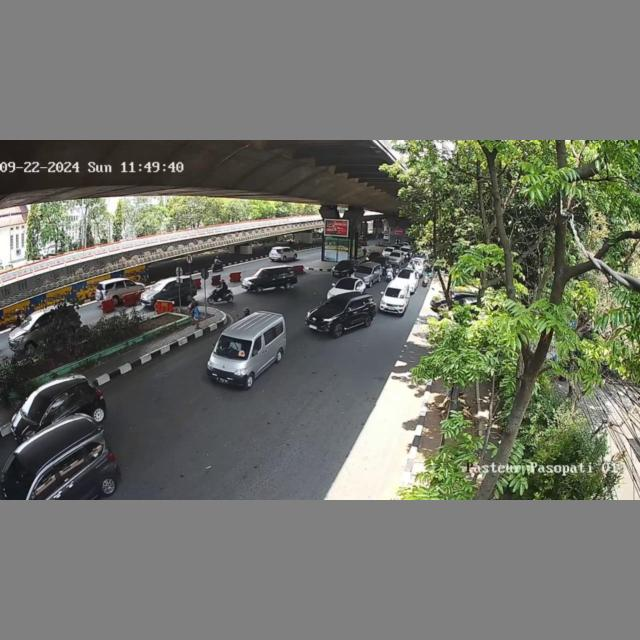windshield: (214, 335, 253, 359), (323, 299, 348, 312), (386, 287, 406, 299), (336, 281, 355, 290), (358, 266, 373, 273)
